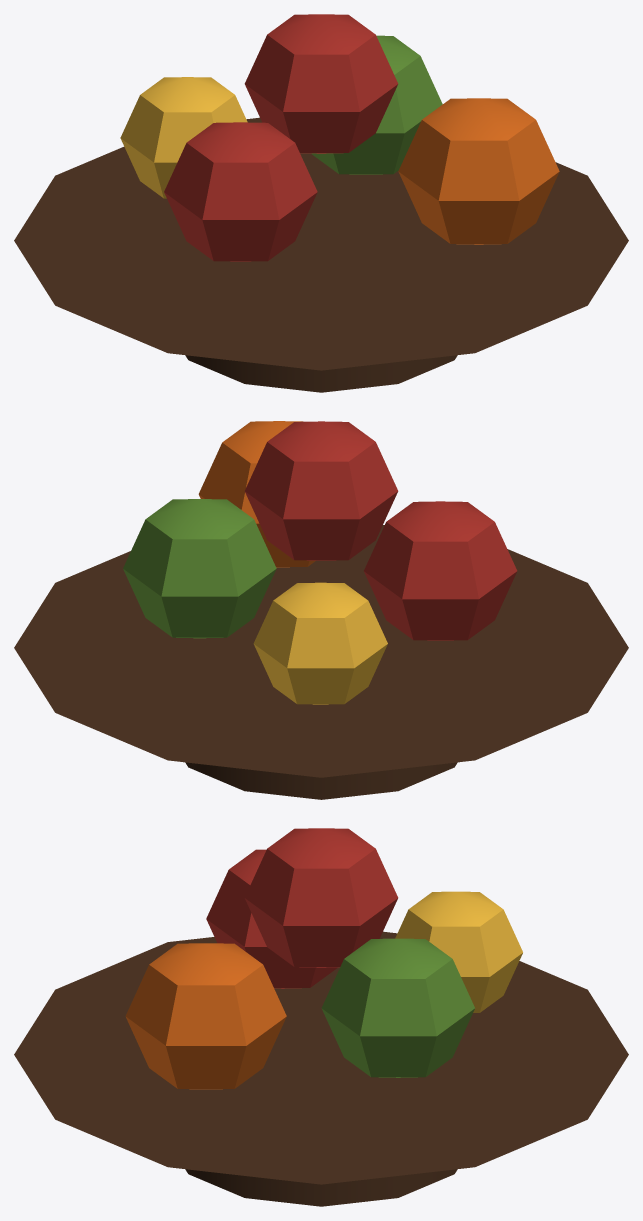
Rendered from tableware_fruit_bowl.glb.
3 renders of one model, top to bottom at view 1: azimuth 30°, elevation 25°; view 2: azimuth 150°, elevation 25°; view 3: azimuth 270°, elevation 25°, orthographic.
Parts seen in each view (by area): view 1: tableware_fruit_bowl; view 2: tableware_fruit_bowl; view 3: tableware_fruit_bowl.
Boxes of the visible parts, bbox=[...] form: tableware_fruit_bowl: bbox=[14, 14, 628, 392]; tableware_fruit_bowl: bbox=[14, 421, 628, 799]; tableware_fruit_bowl: bbox=[14, 828, 628, 1206].
Size of the model in its own units: 0.32 by 0.18 by 0.32.
